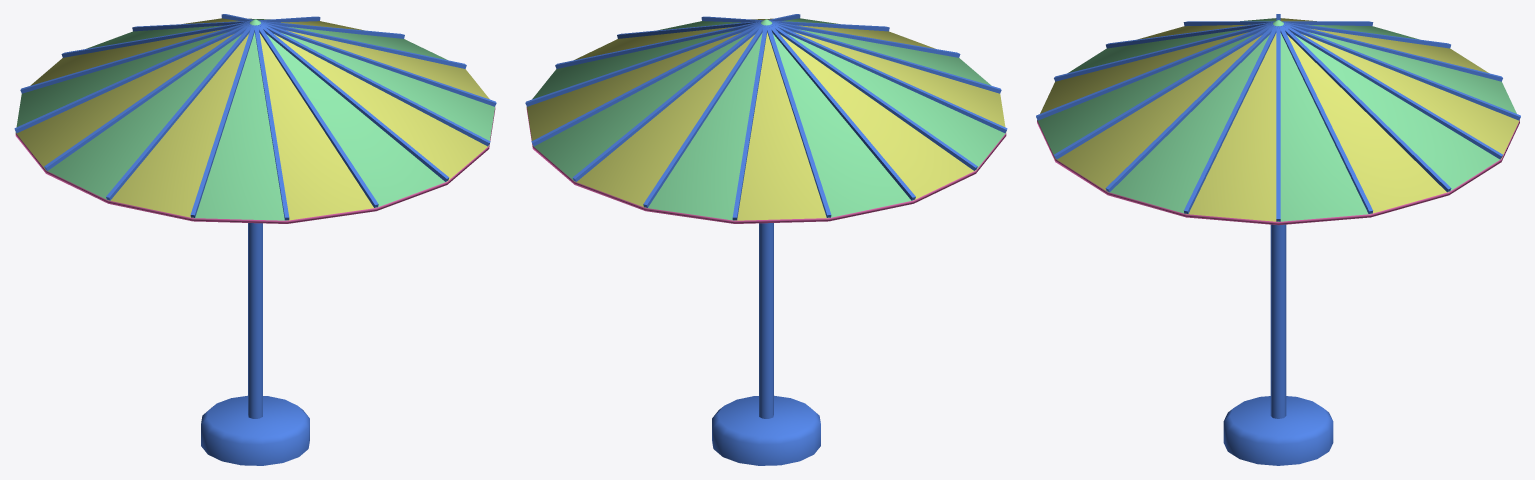
File: Sonnenschirm_01.fbx
The picture shows the model from 3 angles, left to right: view 1: azimuth 30°, elevation 25°; view 2: azimuth 150°, elevation 25°; view 3: azimuth 270°, elevation 25°; orthographic projection.
Parts seen in each view (by area): view 1: Cylinder.051; view 2: Cylinder.051; view 3: Cylinder.051.
Boxes of the visible parts, <box> form: Cylinder.051: <box>14,14,496,465</box>; Cylinder.051: <box>525,14,1007,465</box>; Cylinder.051: <box>1036,14,1520,465</box>.
Size of the model in its own units: 407 by 391 by 407.
